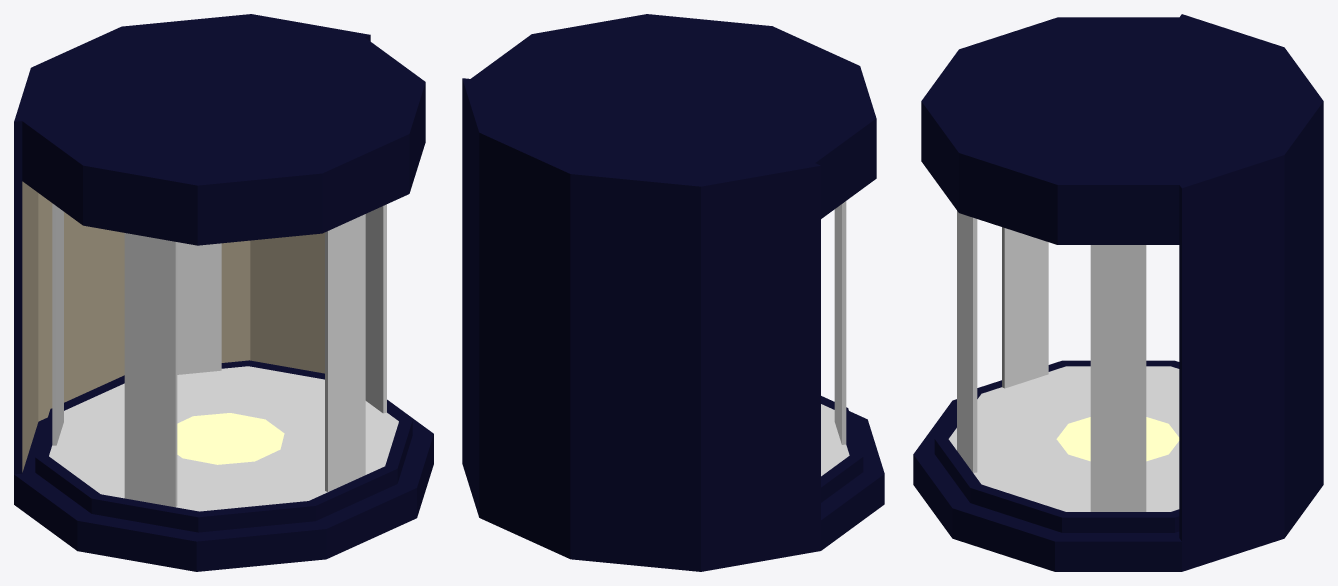
File: Teletransporte2.fbx
3 views of the same model, side by side, from view 1: azimuth 30°, elevation 25°; view 2: azimuth 150°, elevation 25°; view 3: azimuth 270°, elevation 25° (orthographic).
Visible parts, largest first — view 1: Circle.001, Circle.002; view 2: Circle.001, Circle.002; view 3: Circle.001, Circle.002.
Boxes of the visible parts, x1=… form: Circle.001: x1=14, y1=14, x2=433, y2=571; Circle.002: x1=52, y1=203, x2=386, y2=507; Circle.001: x1=462, y1=14, x2=884, y2=571; Circle.002: x1=834, y1=201, x2=846, y2=444; Circle.001: x1=913, y1=14, x2=1323, y2=571; Circle.002: x1=957, y1=211, x2=1146, y2=511.
Bounding box in the file's own units: 254 × 260 × 253.
